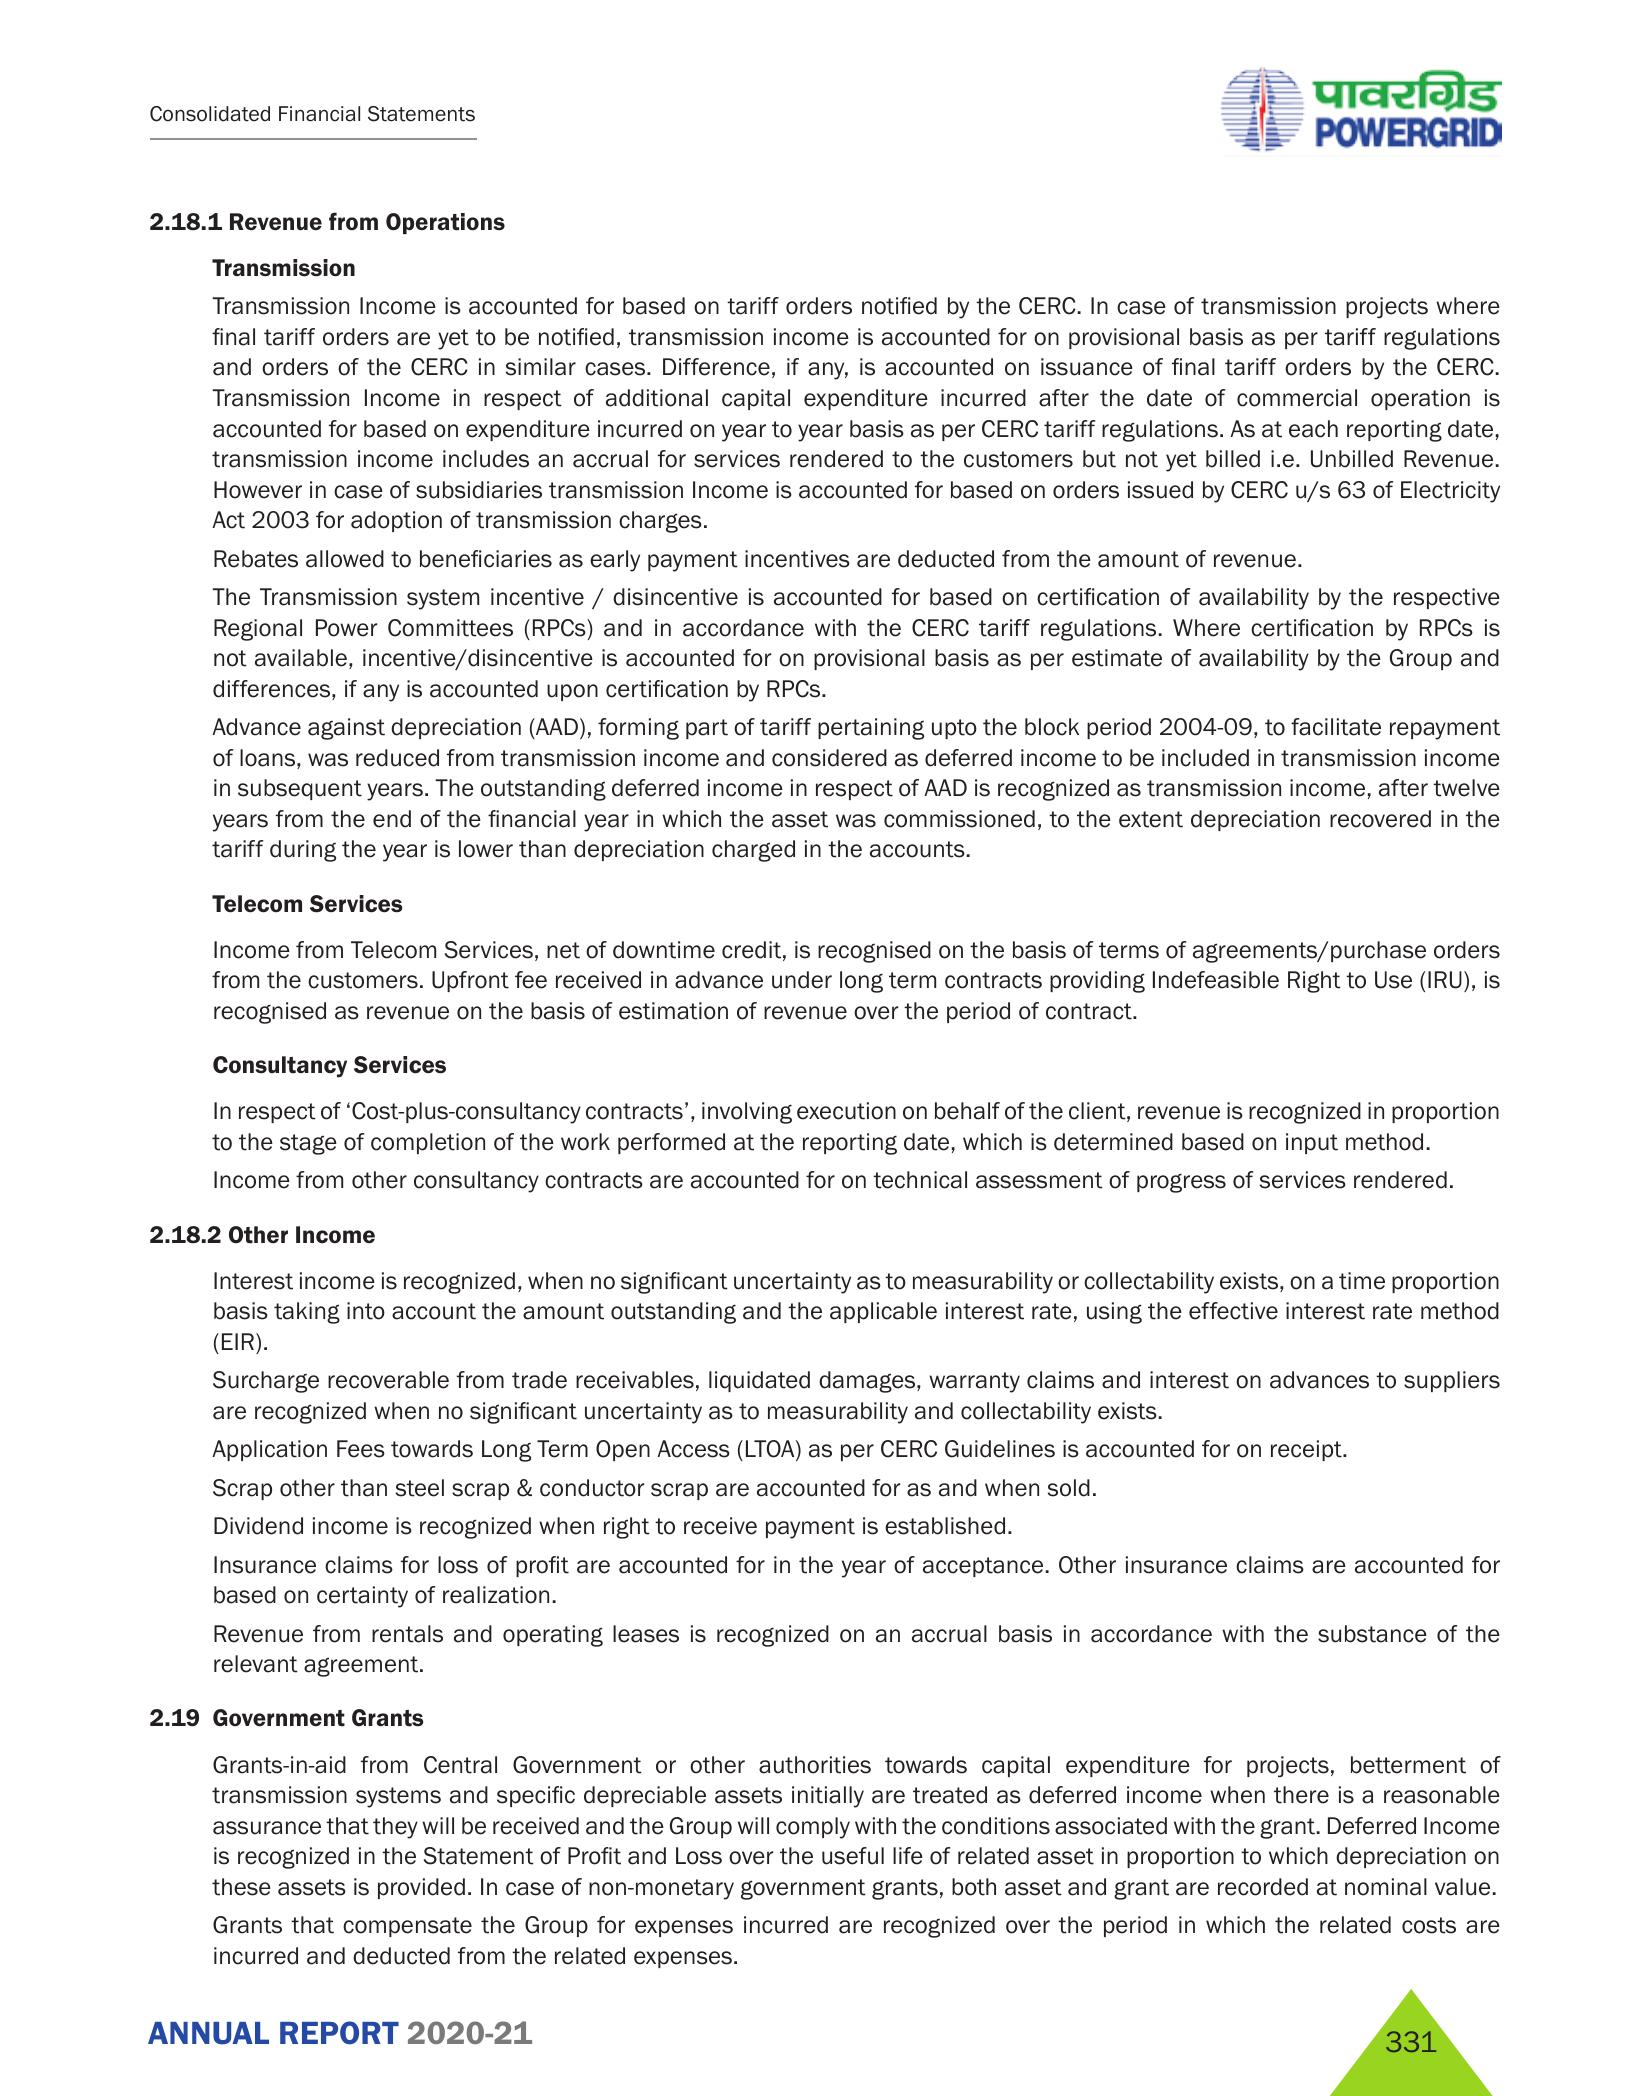Footer: (0, 1953, 1650, 2096)
Header: (0, 0, 1650, 189)
